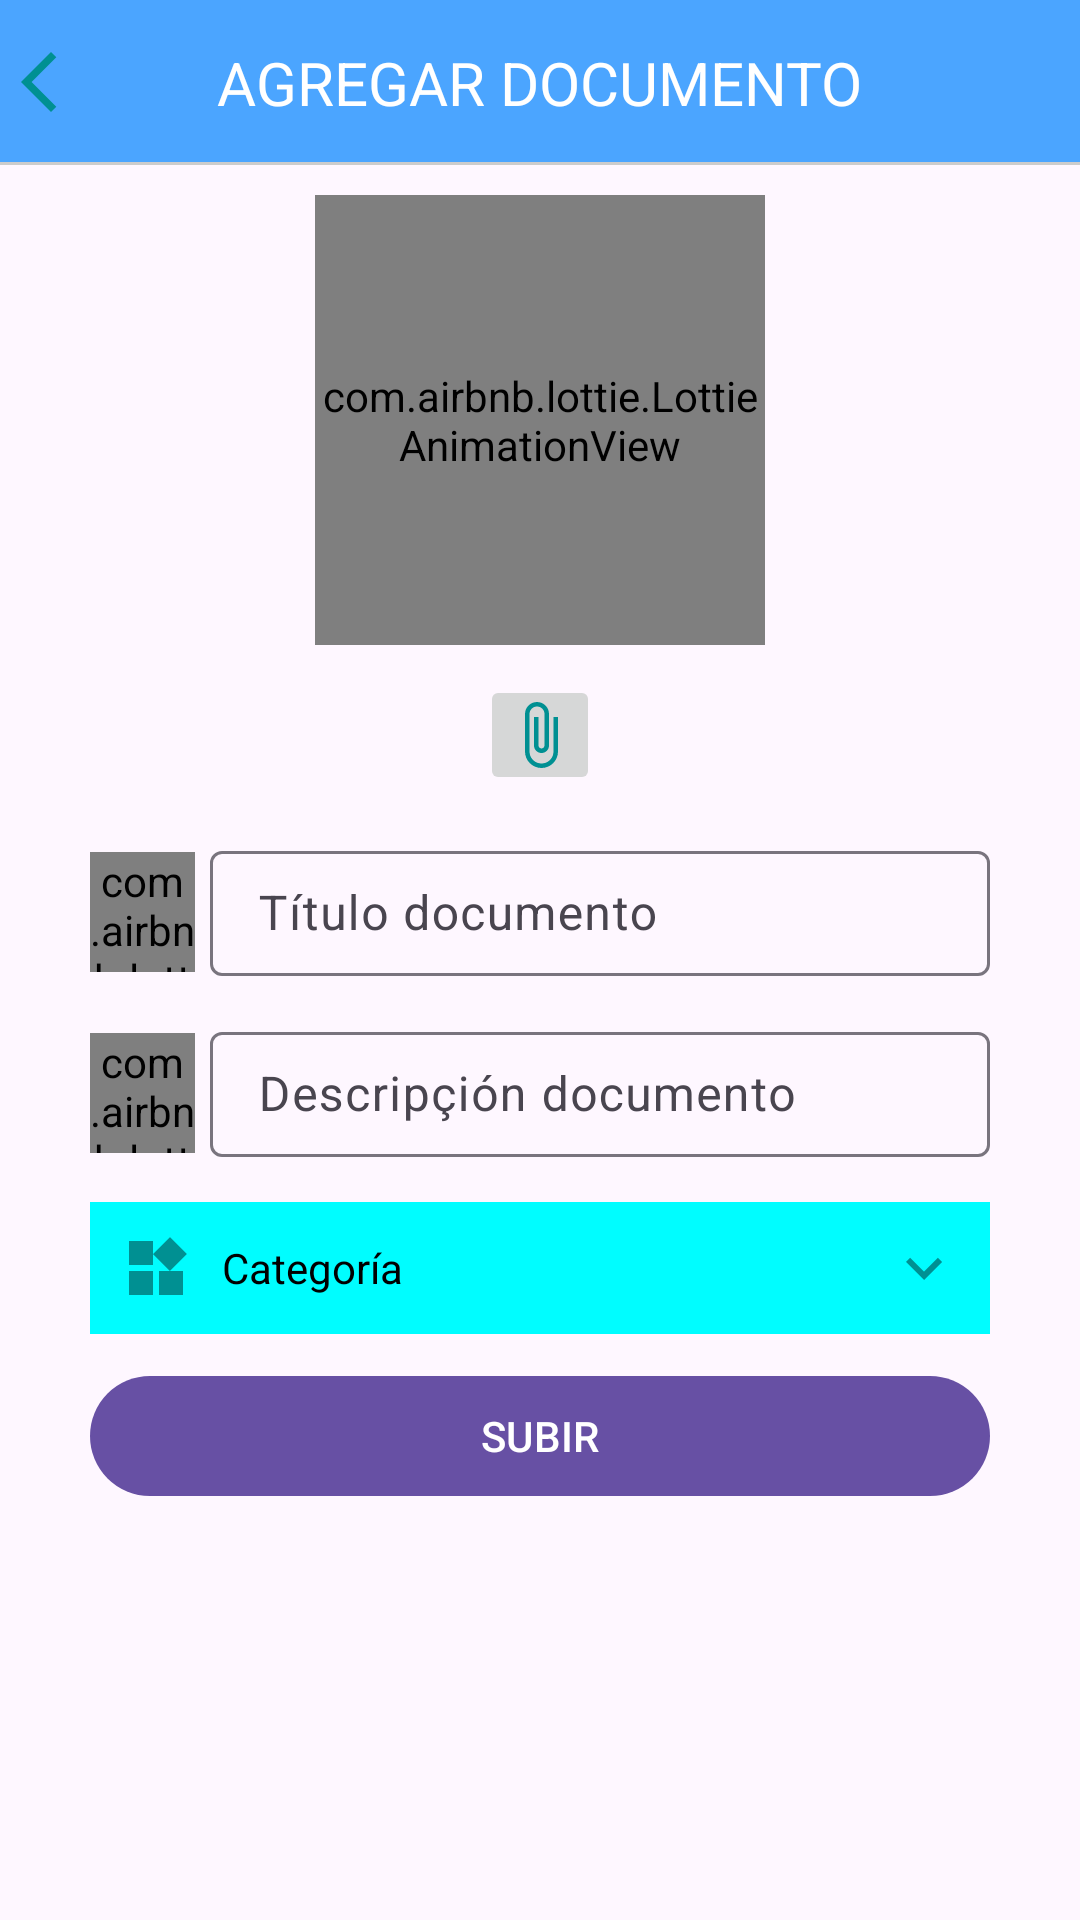

Where to tap for icons on this 1080px x 1920px app screen, as (x=x, y=y):
adjuntar doc: (x=540, y=735)
regresar: (x=38, y=82)
